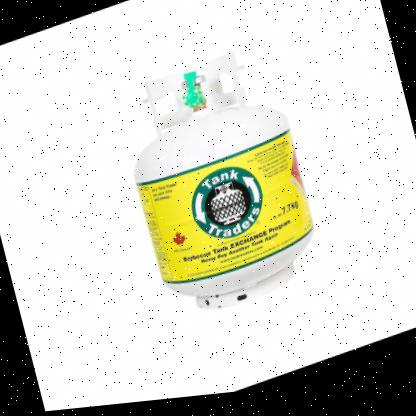gas-tank: (89, 8, 359, 369)
